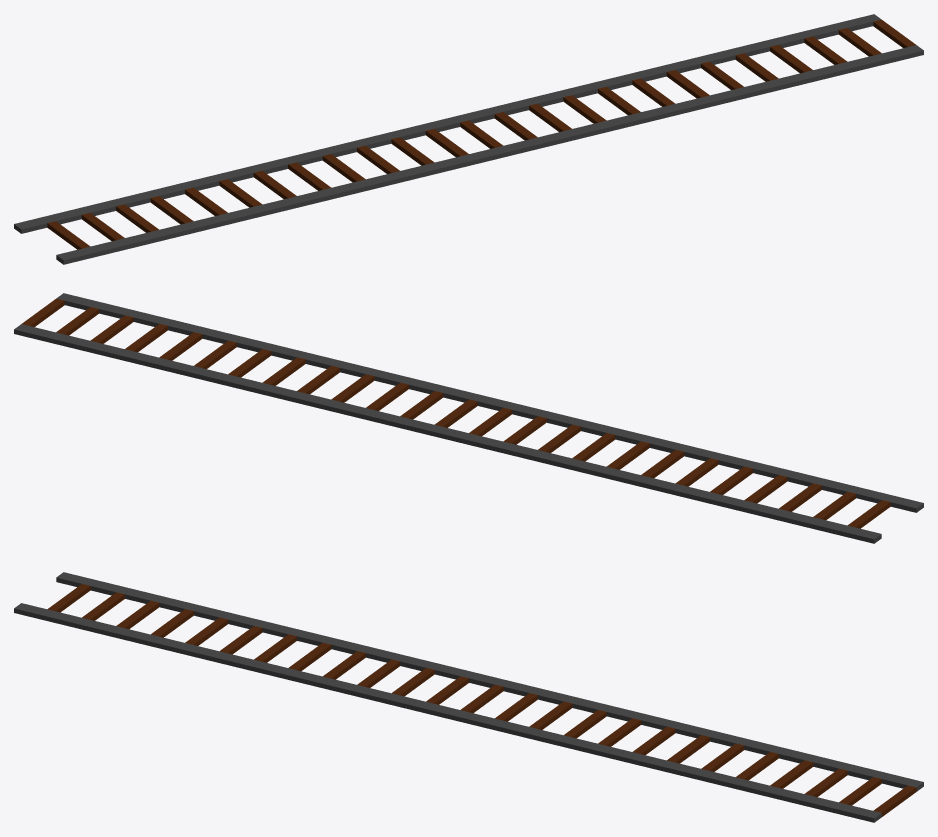
Rendered from trilho-1.obj.
3 renders of one model, top to bottom at view 1: azimuth 30°, elevation 25°; view 2: azimuth 150°, elevation 25°; view 3: azimuth 330°, elevation 25°, orthographic.
Size of the model in its own units: 20 by 0.1 by 2.
1 material, 1 textured.
